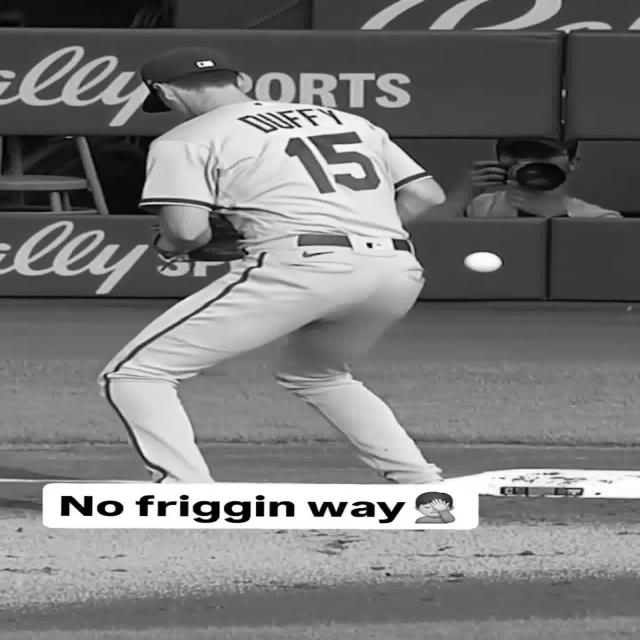base: (445, 469, 640, 499)
baseball: (465, 251, 502, 272)
baseball_glove: (189, 214, 247, 261)
